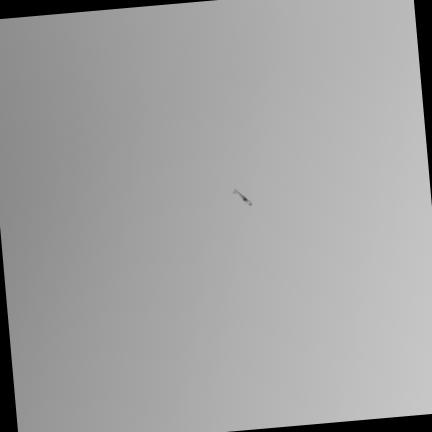Shahed: (233, 189, 251, 205)
